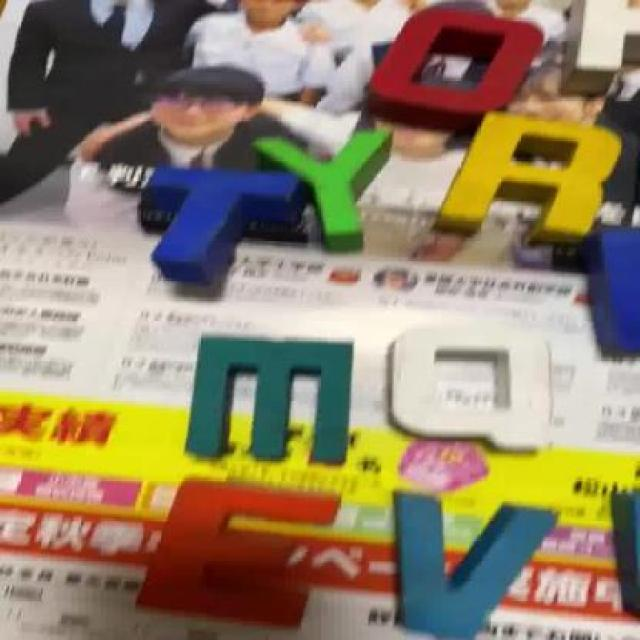E: (140, 479, 329, 616)
M: (180, 337, 358, 458)
O: (369, 8, 549, 124)
Q: (393, 326, 555, 456)
R: (424, 114, 618, 246)
T: (137, 172, 298, 276)
V: (391, 492, 558, 638)
Y: (261, 130, 394, 244)
